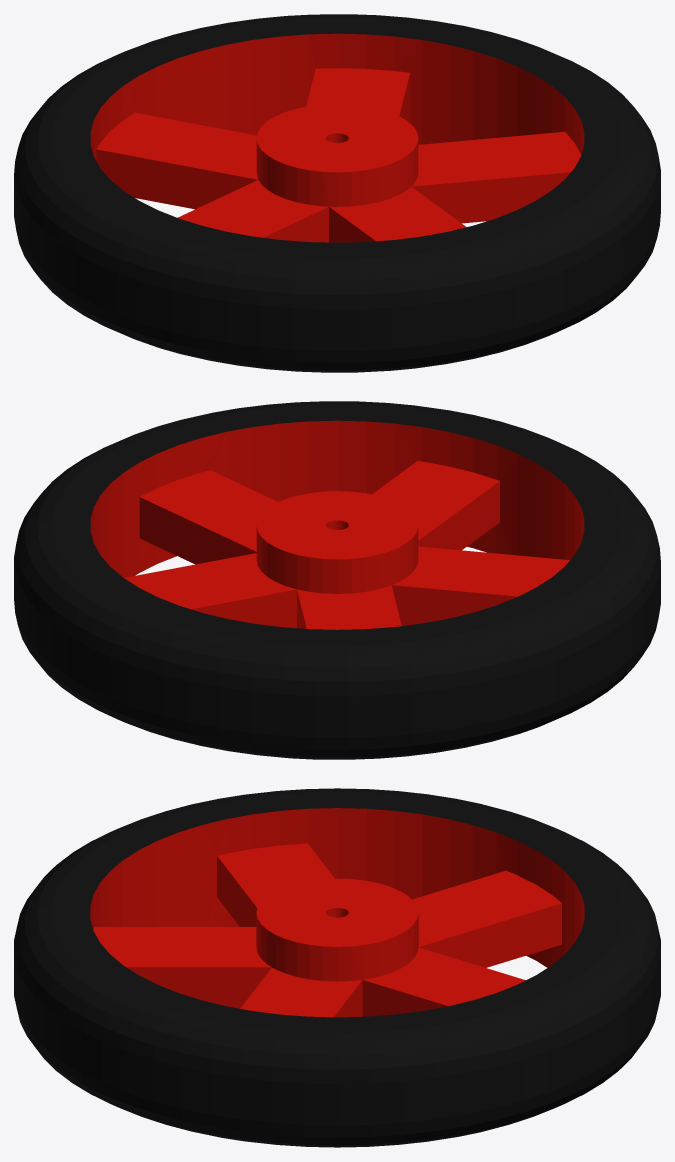
Rendered from WHEEL FRONT.fbx.
3 views of the same model, one above another, from view 1: azimuth 30°, elevation 25°; view 2: azimuth 150°, elevation 25°; view 3: azimuth 270°, elevation 25° (orthographic).
Parts seen in each view (by area): view 1: WHEEL FRONT; view 2: WHEEL FRONT; view 3: WHEEL FRONT.
Boxes of the visible parts, bbox=[...] form: WHEEL FRONT: bbox=[14, 14, 660, 372]; WHEEL FRONT: bbox=[14, 401, 660, 759]; WHEEL FRONT: bbox=[14, 788, 660, 1147].
Size of the model in its own units: 17 by 3.2 by 16.98.
